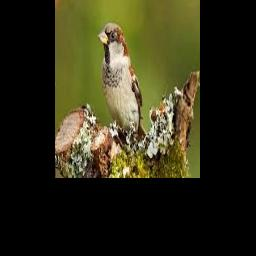Sparrow: (97, 23, 147, 143)
